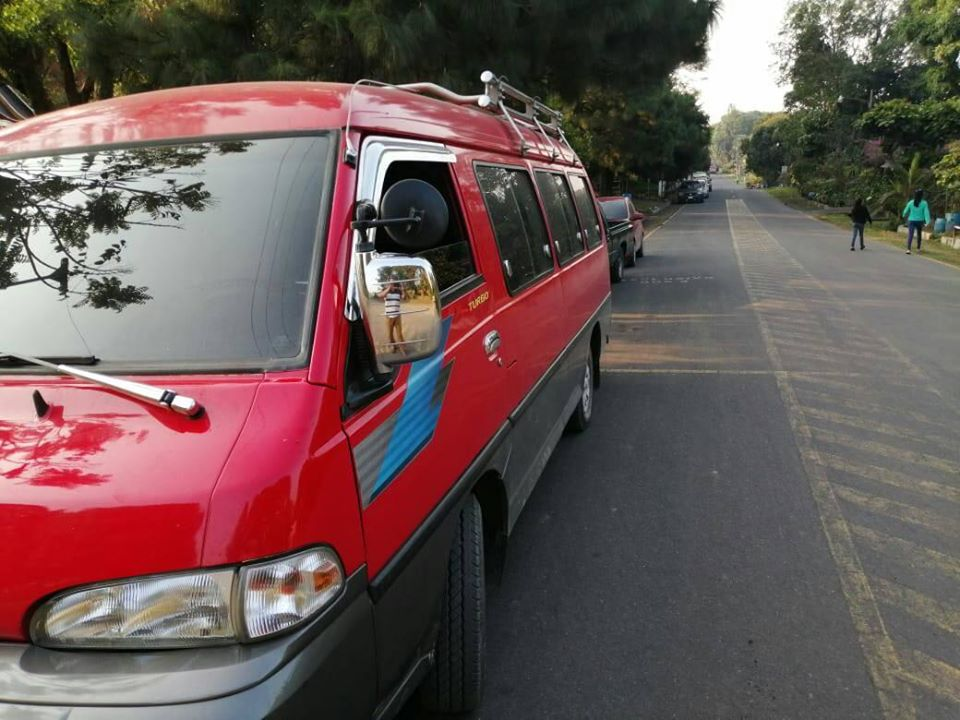bus: (4, 78, 616, 716)
